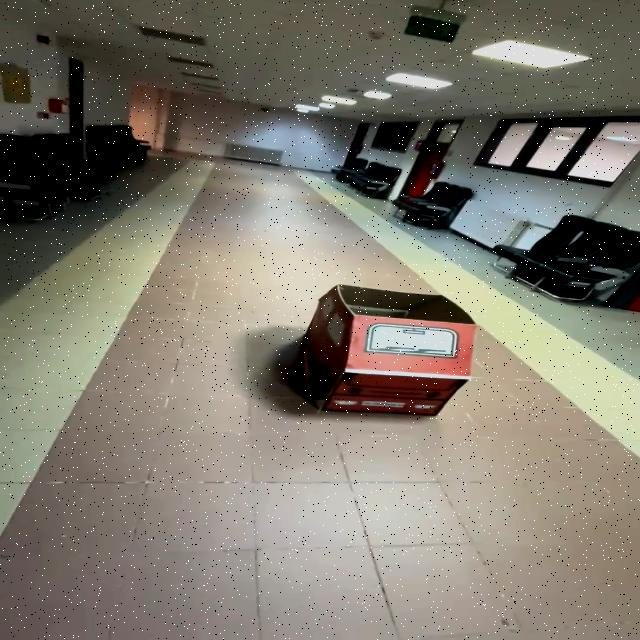red_car: (268, 272, 491, 427)
